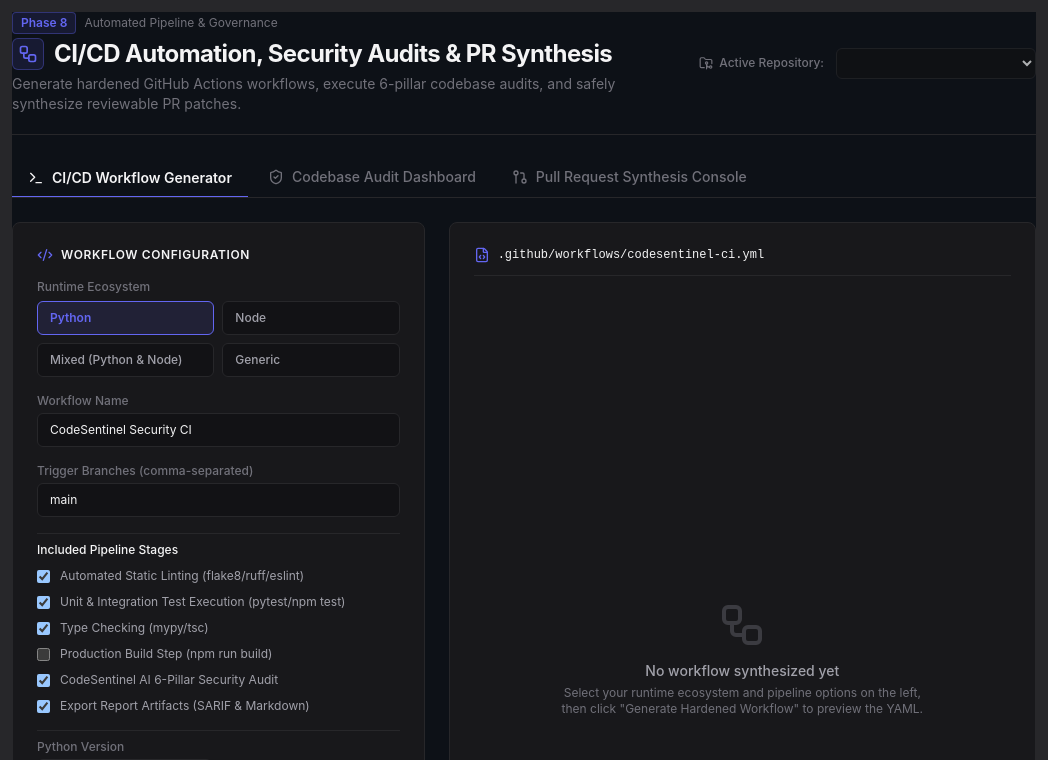
Test: Phase 8 CiCdAuditPage Console › switches to Audit Dashboard and renders check pillars
Click the button "Codebase Audit Dashboard" at (372, 178), box x1=252 y1=159 x2=492 y2=197
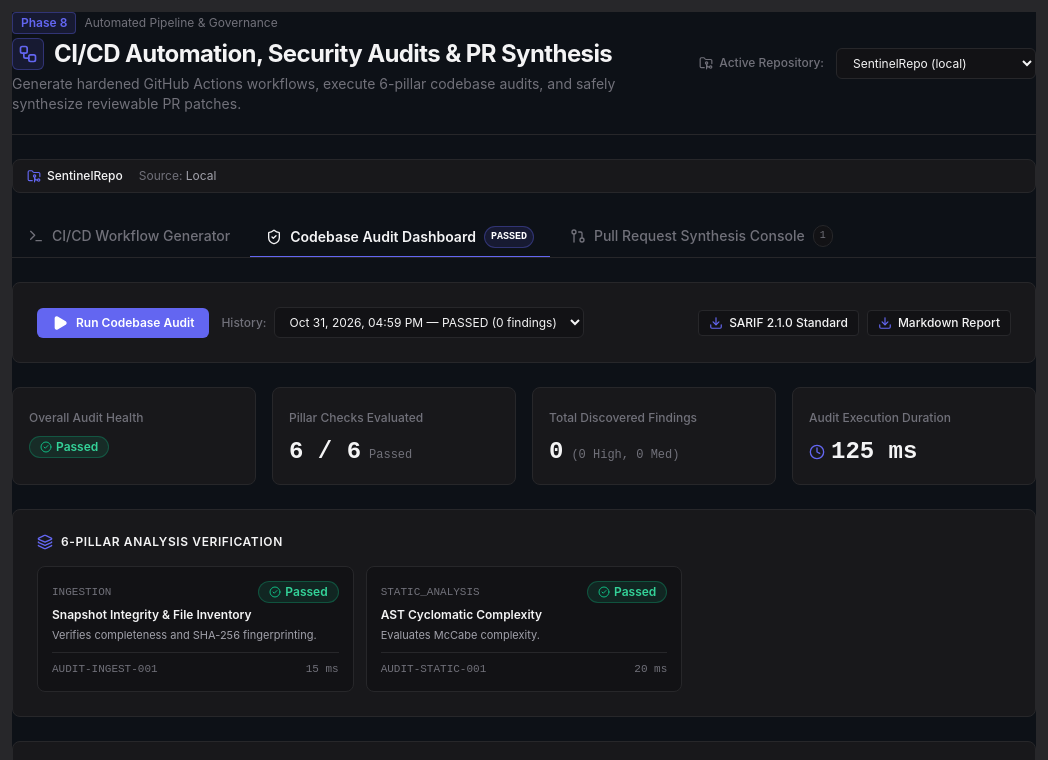
Now the text "Run Codebase Audit" is shown, box x1=76 y1=314 x2=194 y2=330
Now the heading "6-Pillar Analysis Verification" is shown, box x1=37 y1=534 x2=283 y2=550
Now the heading "Snapshot Integrity & File Inventory" is shown, box x1=52 y1=607 x2=252 y2=622
